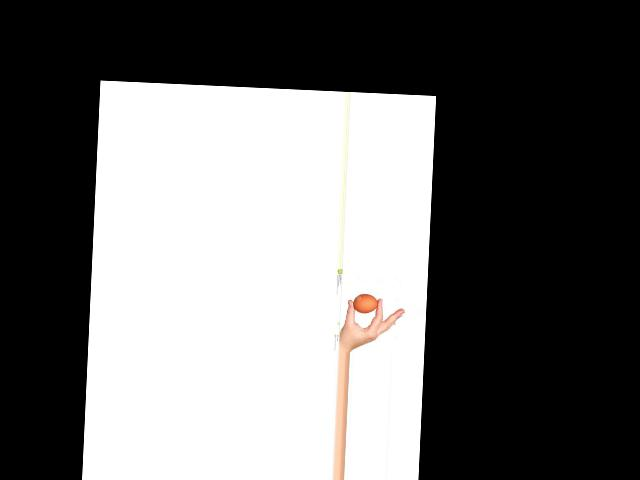egg: (352, 293, 378, 314)
